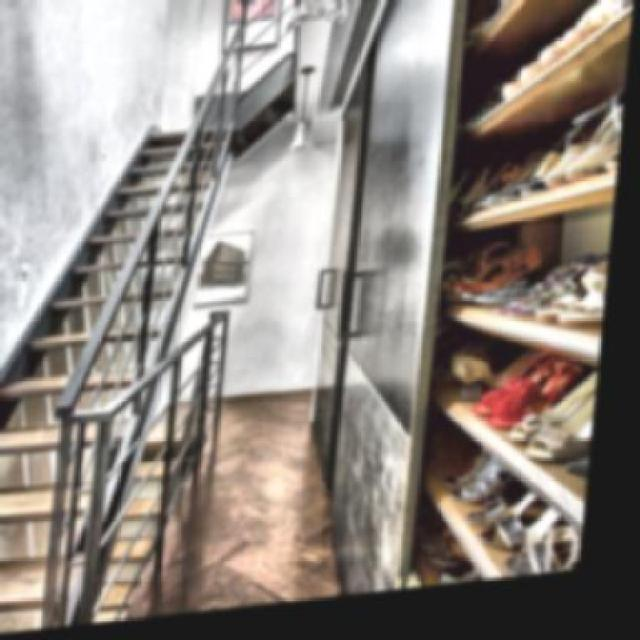stair: (0, 237, 200, 608)
